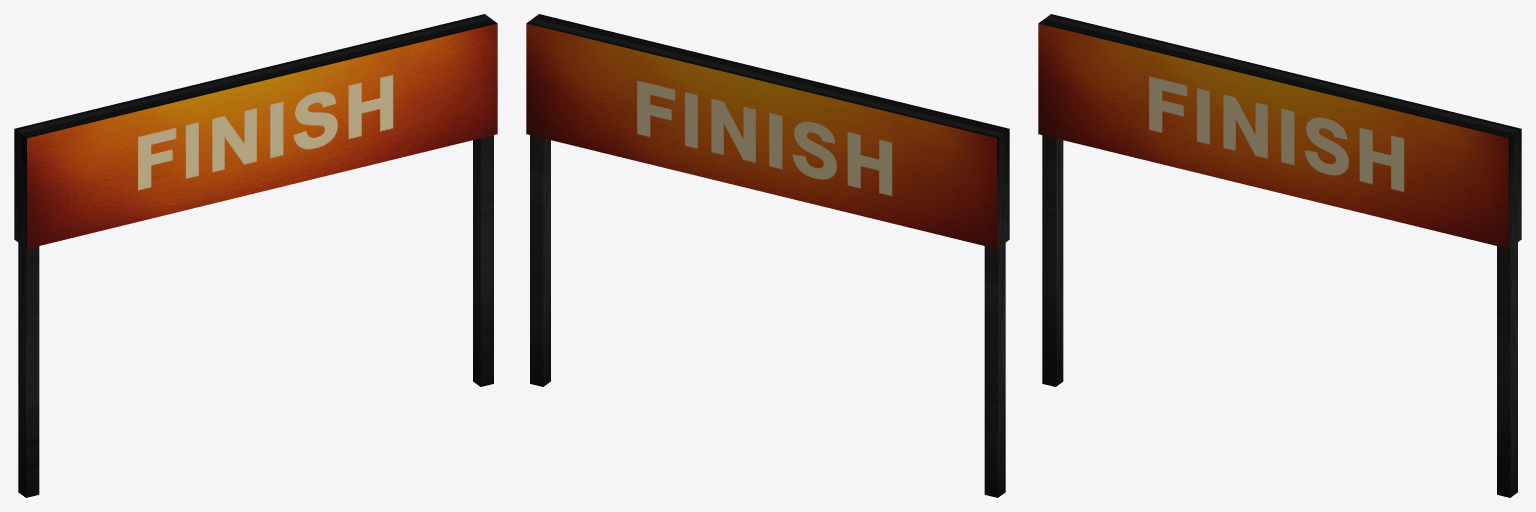
Rendered from finish point modeling.fbx.
3 views of the same model, side by side, from view 1: azimuth 30°, elevation 25°; view 2: azimuth 150°, elevation 25°; view 3: azimuth 330°, elevation 25° (orthographic).
Parts seen in each view (by area): view 1: polySurface1; view 2: polySurface1; view 3: polySurface1.
Boxes of the visible parts, x1=… form: polySurface1: x1=14, y1=14, x2=497, y2=497; polySurface1: x1=526, y1=14, x2=1009, y2=497; polySurface1: x1=1038, y1=14, x2=1521, y2=497.
Bounding box in the file's own units: 12.72 × 9.35 × 0.6065.
